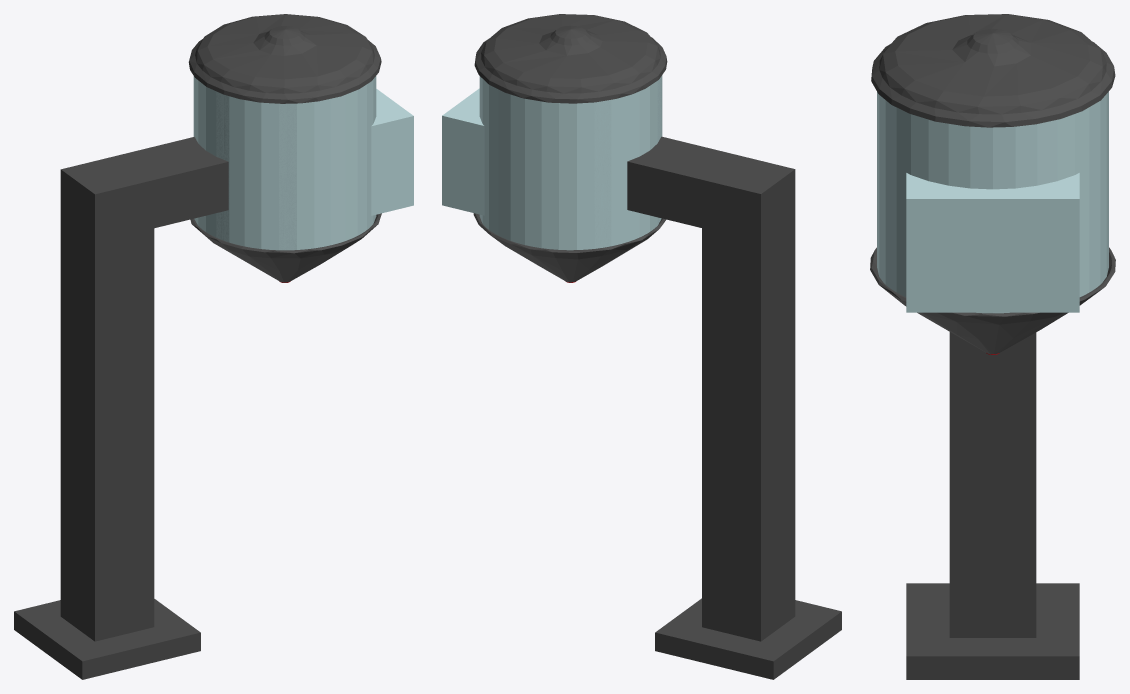
File: dispensador_tomate.glb
3 renders of one model, left to right at view 1: azimuth 30°, elevation 25°; view 2: azimuth 150°, elevation 25°; view 3: azimuth 270°, elevation 25°, orthographic. The views are drawn at different scales.
Visible parts, largest first — view 1: Dispensador_tomate; view 2: Dispensador_tomate; view 3: Dispensador_tomate.
Part boxes in pixels (bbox=[...]): Dispensador_tomate: bbox=[14, 14, 413, 679]; Dispensador_tomate: bbox=[442, 14, 841, 679]; Dispensador_tomate: bbox=[870, 14, 1115, 679].
Bounding box in the file's own units: 5.6 × 9.16 × 2.84.
